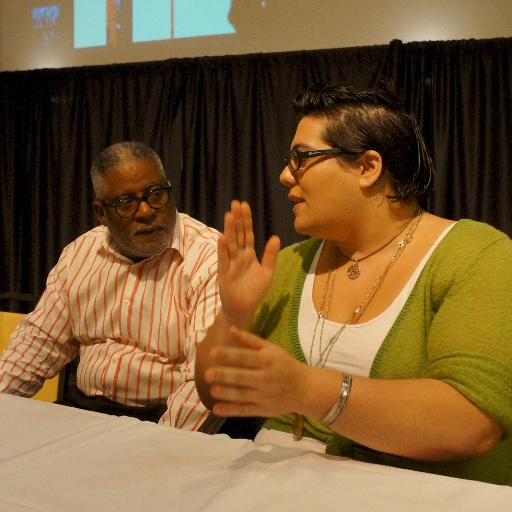hand: (191, 321, 342, 419), (216, 197, 281, 313)
